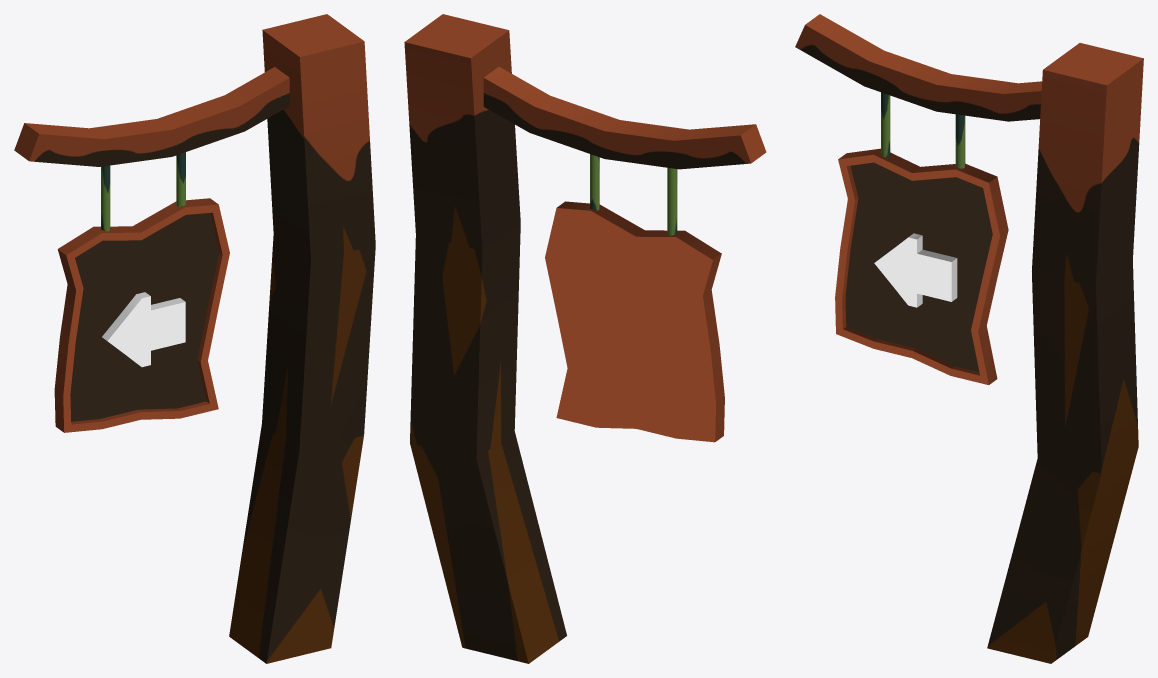
Rendered from PRMC_Senyal.FBX.
3 renders of one model, left to right at view 1: azimuth 30°, elevation 25°; view 2: azimuth 150°, elevation 25°; view 3: azimuth 330°, elevation 25°, orthographic. The views are drawn at different scales.
Parts seen in each view (by area): view 1: PRMC_Senyal; view 2: PRMC_Senyal; view 3: PRMC_Senyal.
Boxes of the visible parts, x1,y1,x2,y2 form: PRMC_Senyal: (14,14,375,663); PRMC_Senyal: (404,14,766,663); PRMC_Senyal: (795,14,1143,663).
Bounding box in the file's own units: 1.91 × 3.3 × 0.4982.
